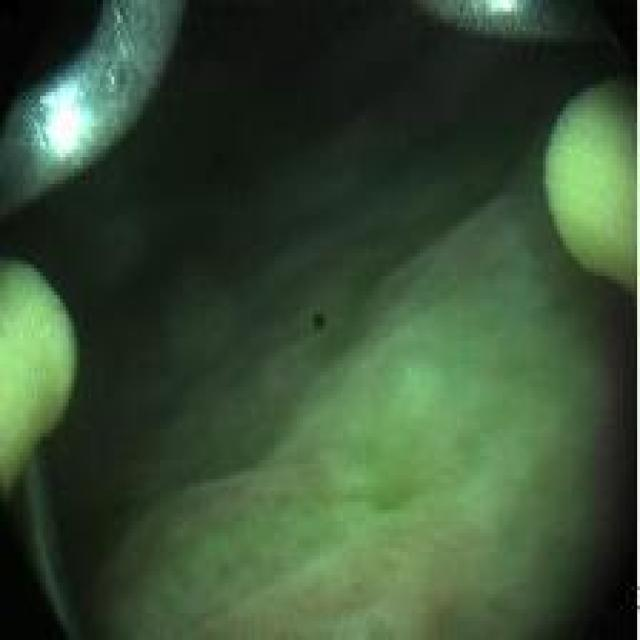color misalignment: (307, 303, 331, 338)
contrast: (159, 21, 587, 258), (35, 268, 173, 600), (5, 10, 92, 99)
instrument: (3, 6, 191, 221), (543, 71, 636, 303), (2, 258, 77, 534), (413, 3, 632, 49)
specularity: (42, 86, 88, 151), (486, 1, 520, 17)
